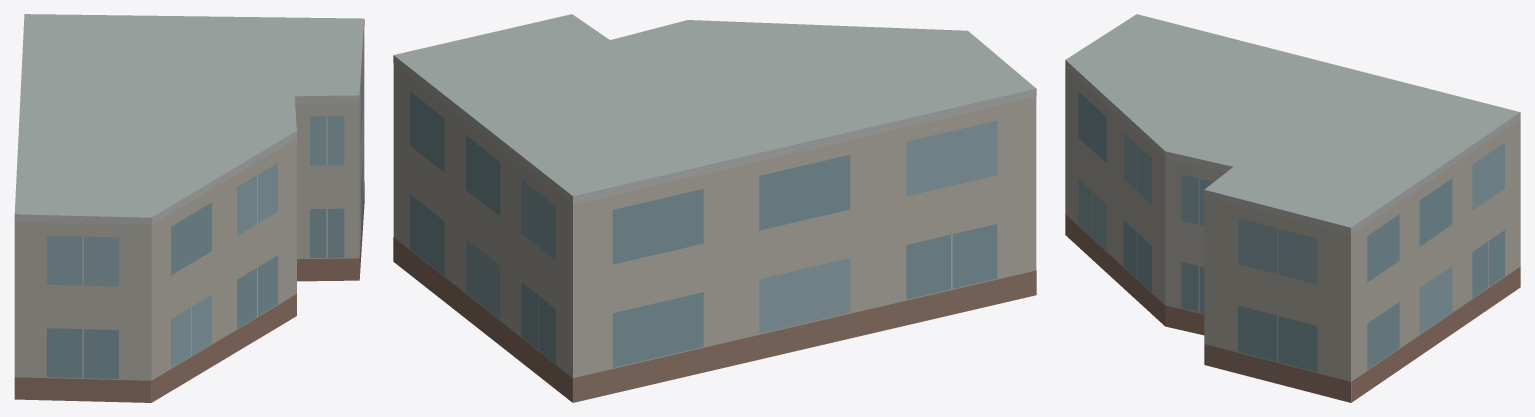
The model's file is survey-upis-32690910.glb.
The picture shows the model from 3 angles, left to right: view 1: azimuth 30°, elevation 25°; view 2: azimuth 150°, elevation 25°; view 3: azimuth 270°, elevation 25°; orthographic projection. The views are drawn at different scales.
Parts seen in each view (by area): view 1: survey-upis-32690910.tmp; view 2: survey-upis-32690910.tmp; view 3: survey-upis-32690910.tmp.
Part boxes in pixels (box(x1,y1,x2,y2)): survey-upis-32690910.tmp: box(14, 14, 364, 402); survey-upis-32690910.tmp: box(393, 14, 1036, 402); survey-upis-32690910.tmp: box(1065, 14, 1520, 402).
Size of the model in its own units: 15.97 by 6.1 by 14.38.
